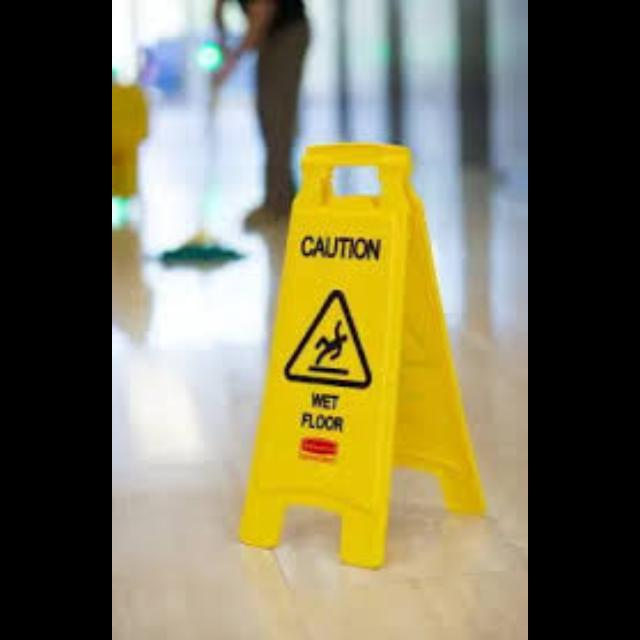slippery_floor: (241, 143, 483, 566)
